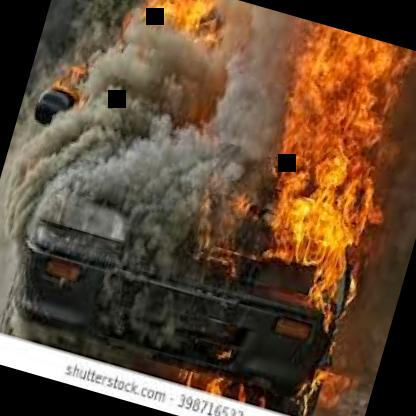fire: (0, 0, 416, 408)
